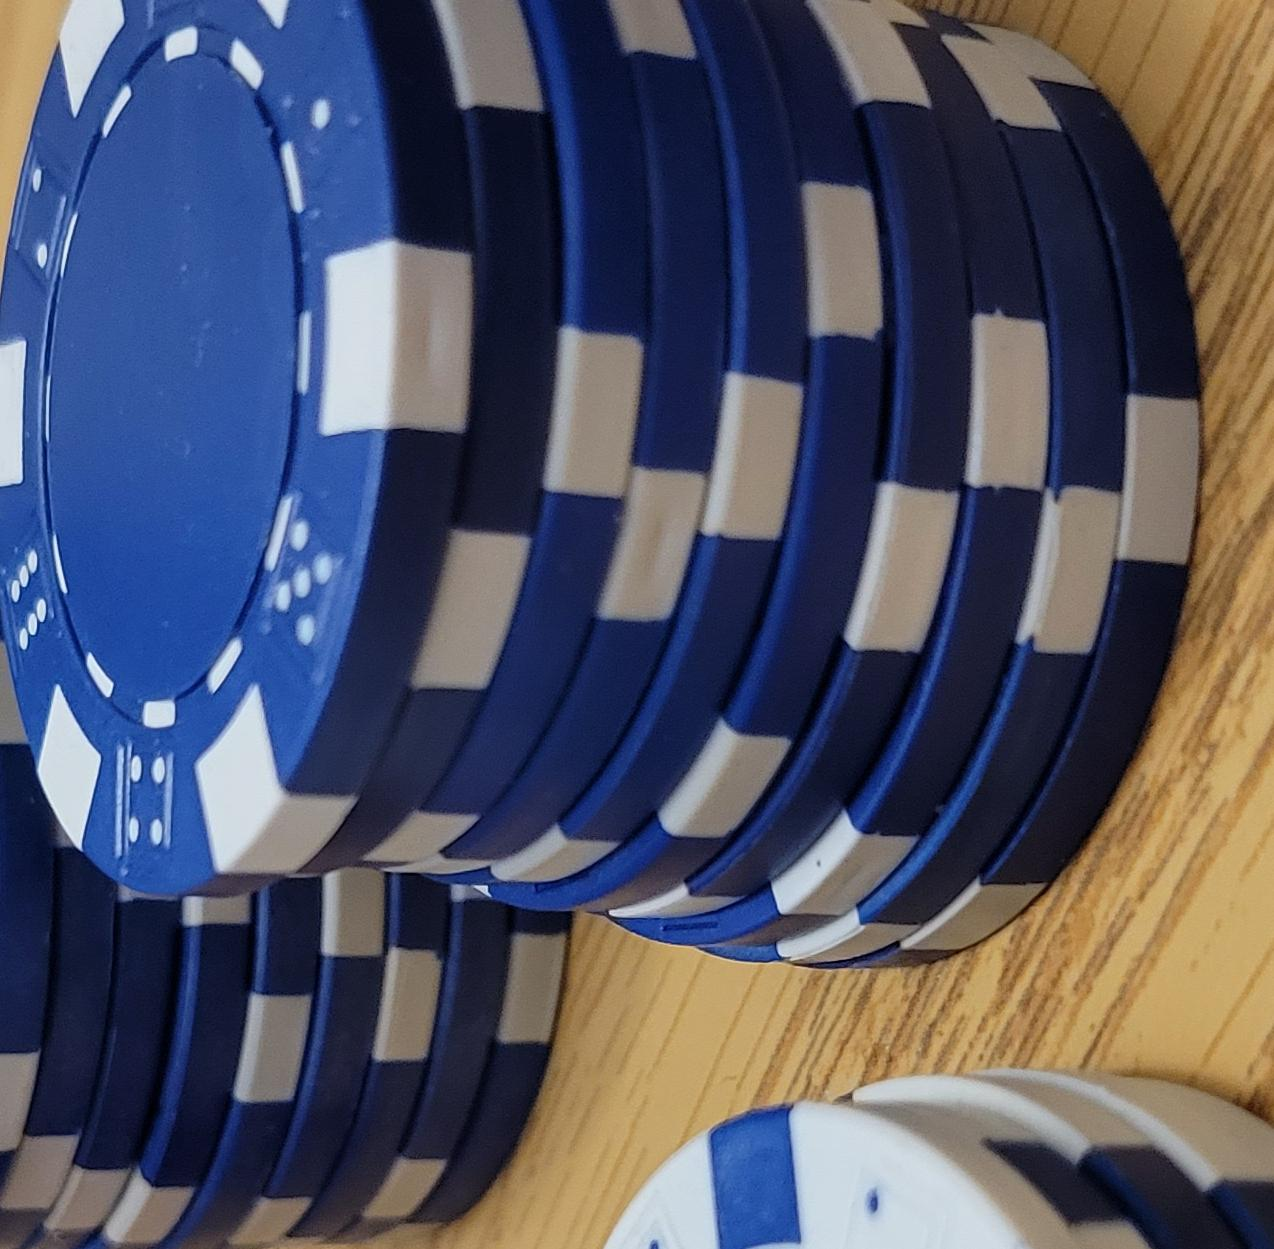Chip: (1, 160, 548, 1249)
